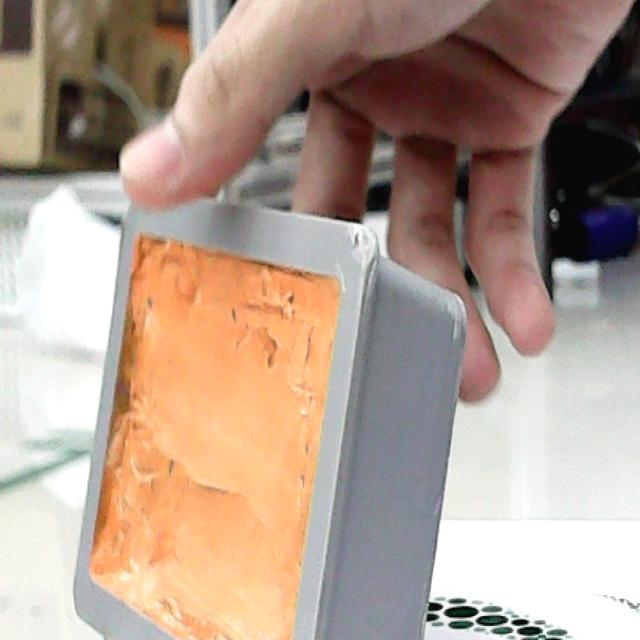block: (74, 193, 464, 640)
